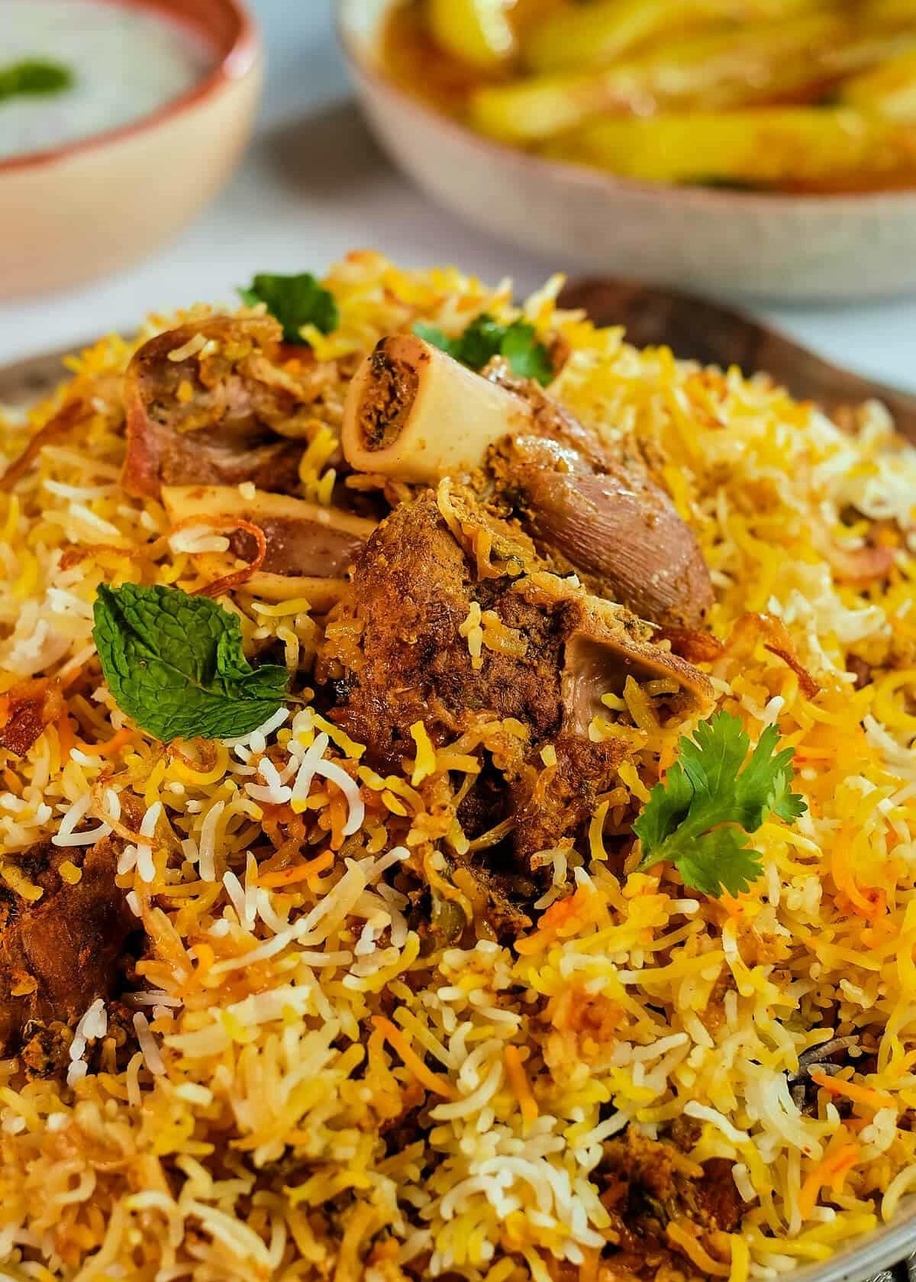Biryani: (0, 220, 916, 1282)
